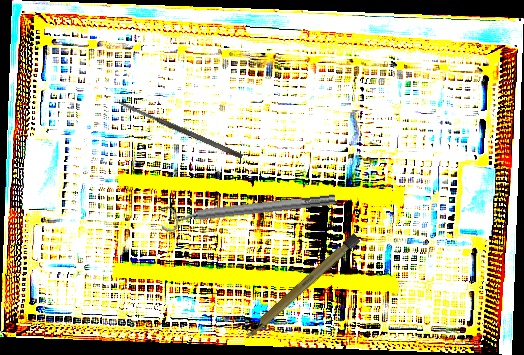Fixation Ring: (160, 186, 337, 234)
Scalpel Handle: (243, 232, 361, 341)
Spatula Surgical: (118, 99, 244, 160)
